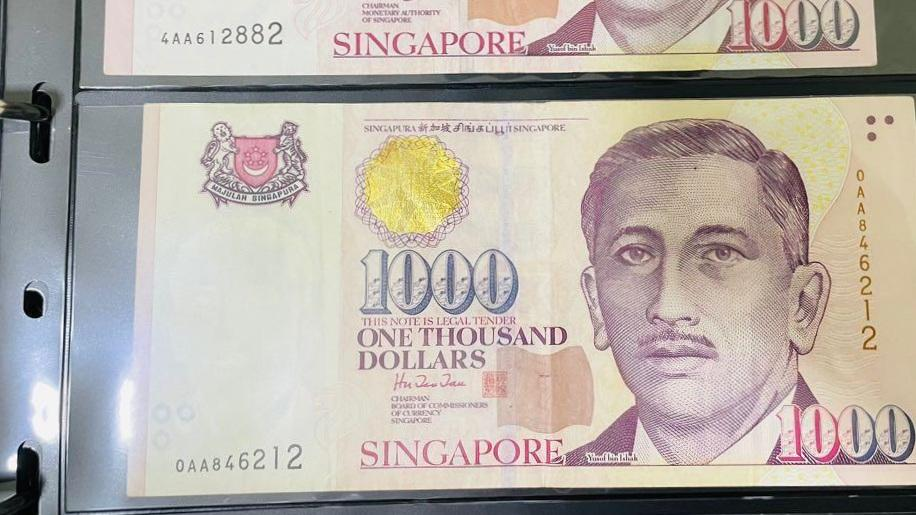1000SingaporeDollar: (145, 104, 916, 486)
